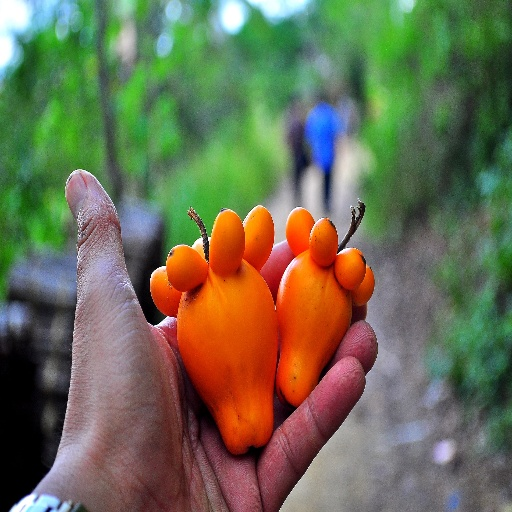hand: (43, 158, 398, 502)
